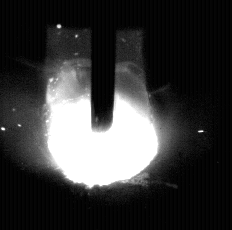arame: (92, 0, 115, 132)
poca: (47, 0, 159, 230)
